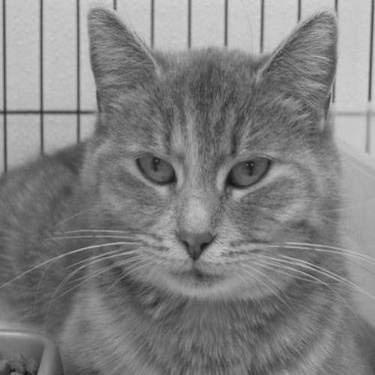cat: (8, 4, 357, 367)
